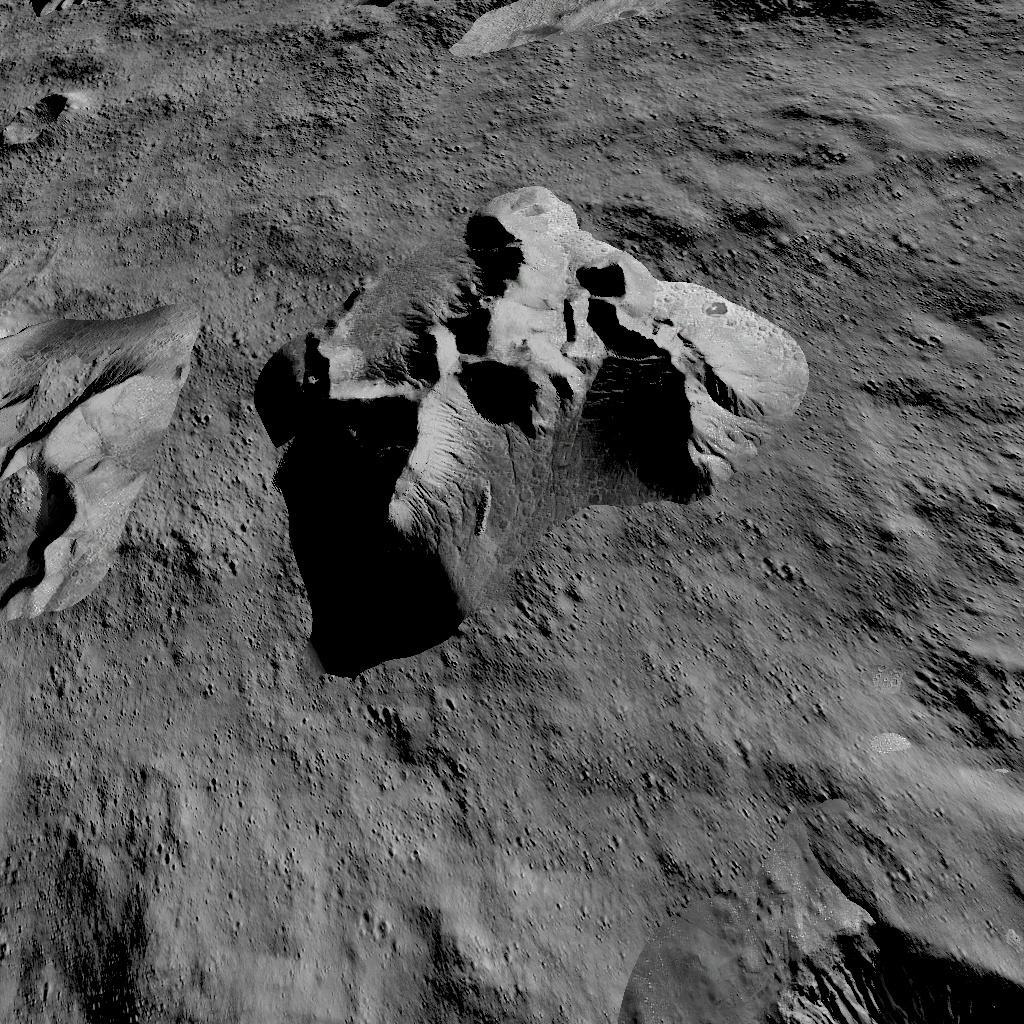Boulders: (249, 178, 809, 672), (3, 286, 201, 622), (422, 0, 634, 59)
Crater: (643, 894, 1024, 1024), (931, 628, 1024, 764), (8, 66, 84, 136), (78, 976, 146, 1024)
Plan surface: (174, 686, 620, 1024), (831, 182, 1024, 598), (660, 0, 1010, 158), (646, 696, 918, 860), (101, 2, 385, 154), (4, 644, 148, 932)
